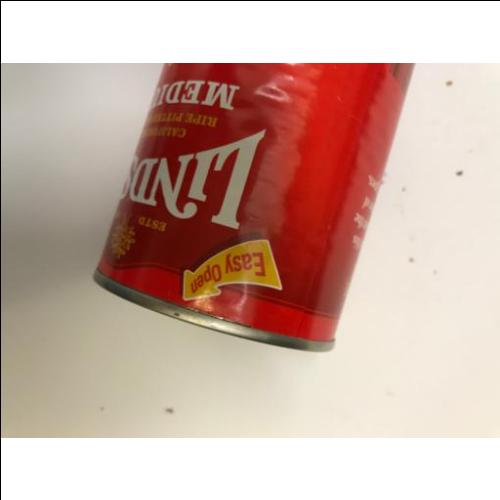metal: (93, 62, 417, 352)
